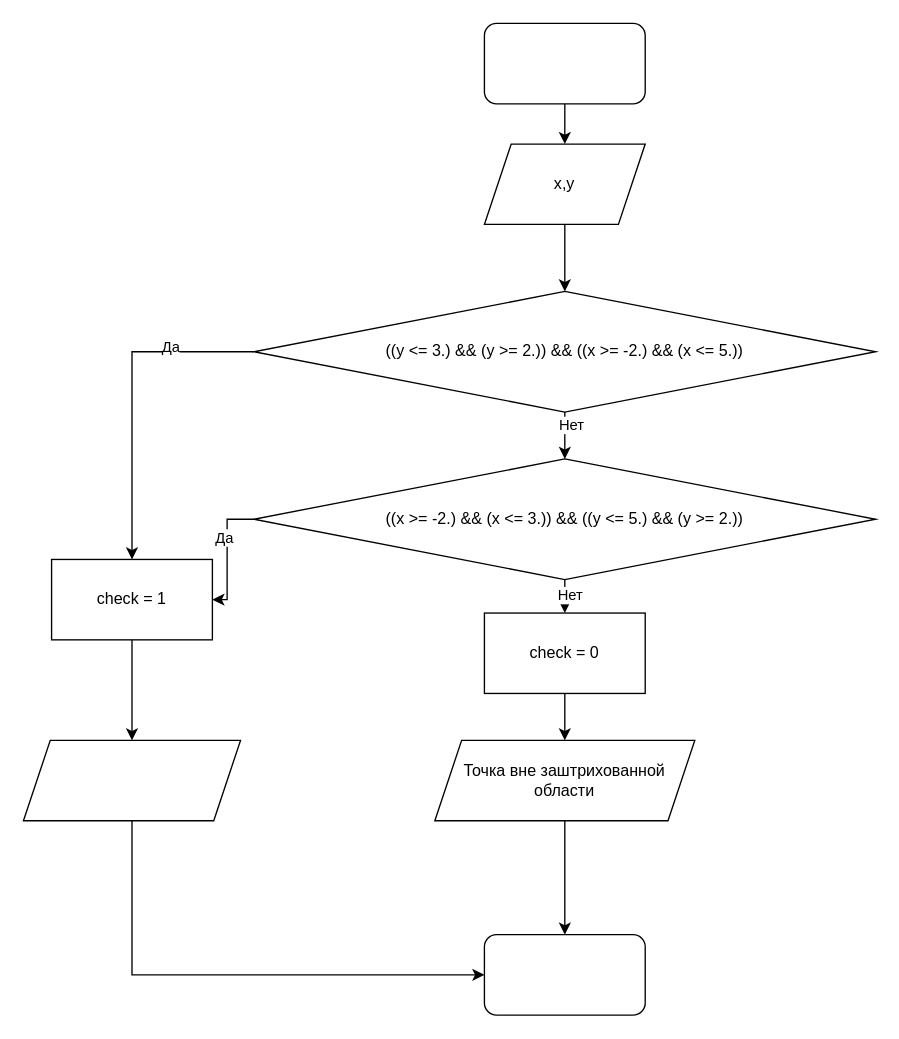
This 899x1039 diagram has some shape labels left out. The box of each missing label's shape, as (x1, y1, x2, y2) in pixels:
Конец: (483, 933, 645, 1015)
Начало: (483, 22, 645, 104)
Точка входит в заштрихованную область: (22, 739, 241, 821)
